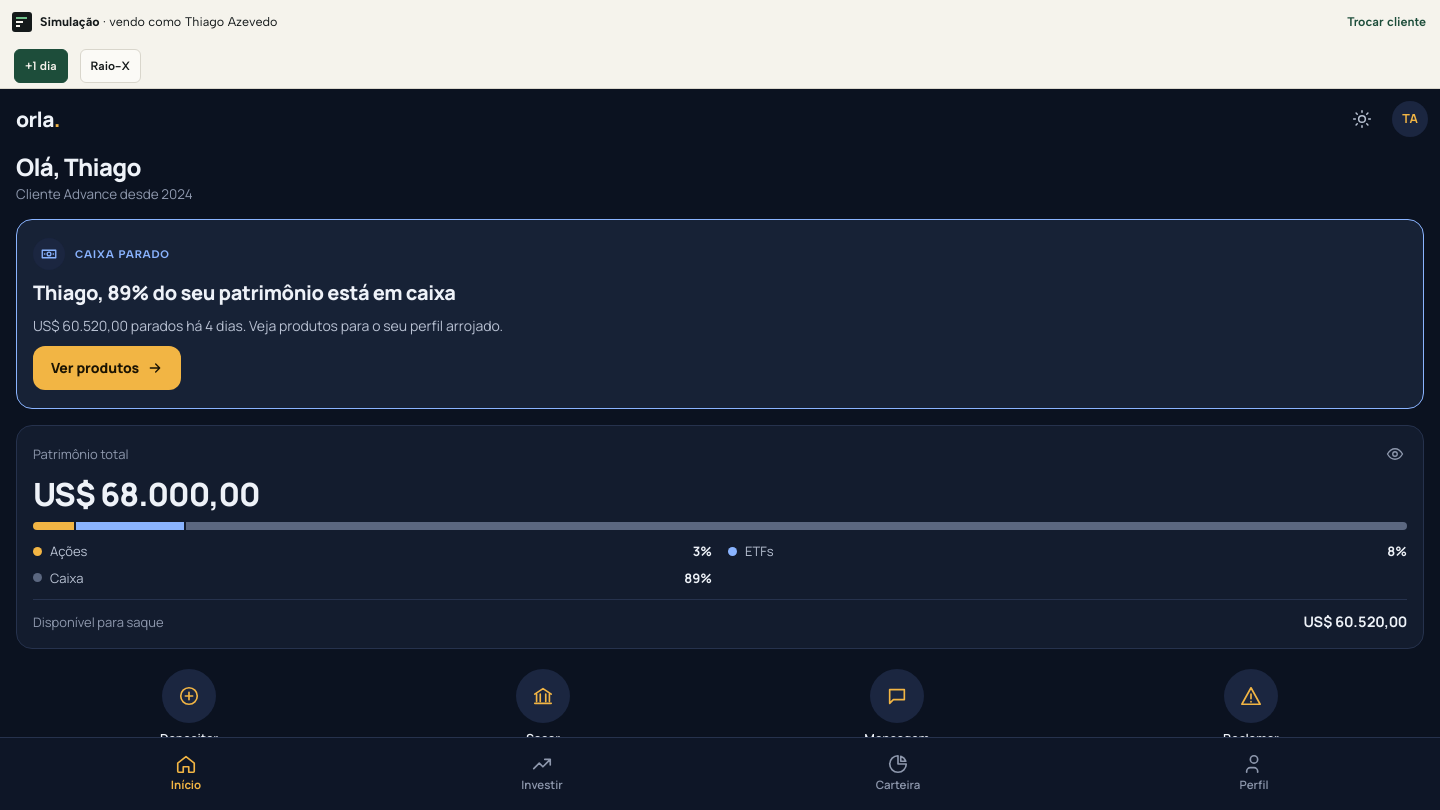
Scenario: client app home from the screen route › routes a navigate action to its screen route
Click the button "Ver produtos". click: click(107, 368)
box: [33,346,181,390]
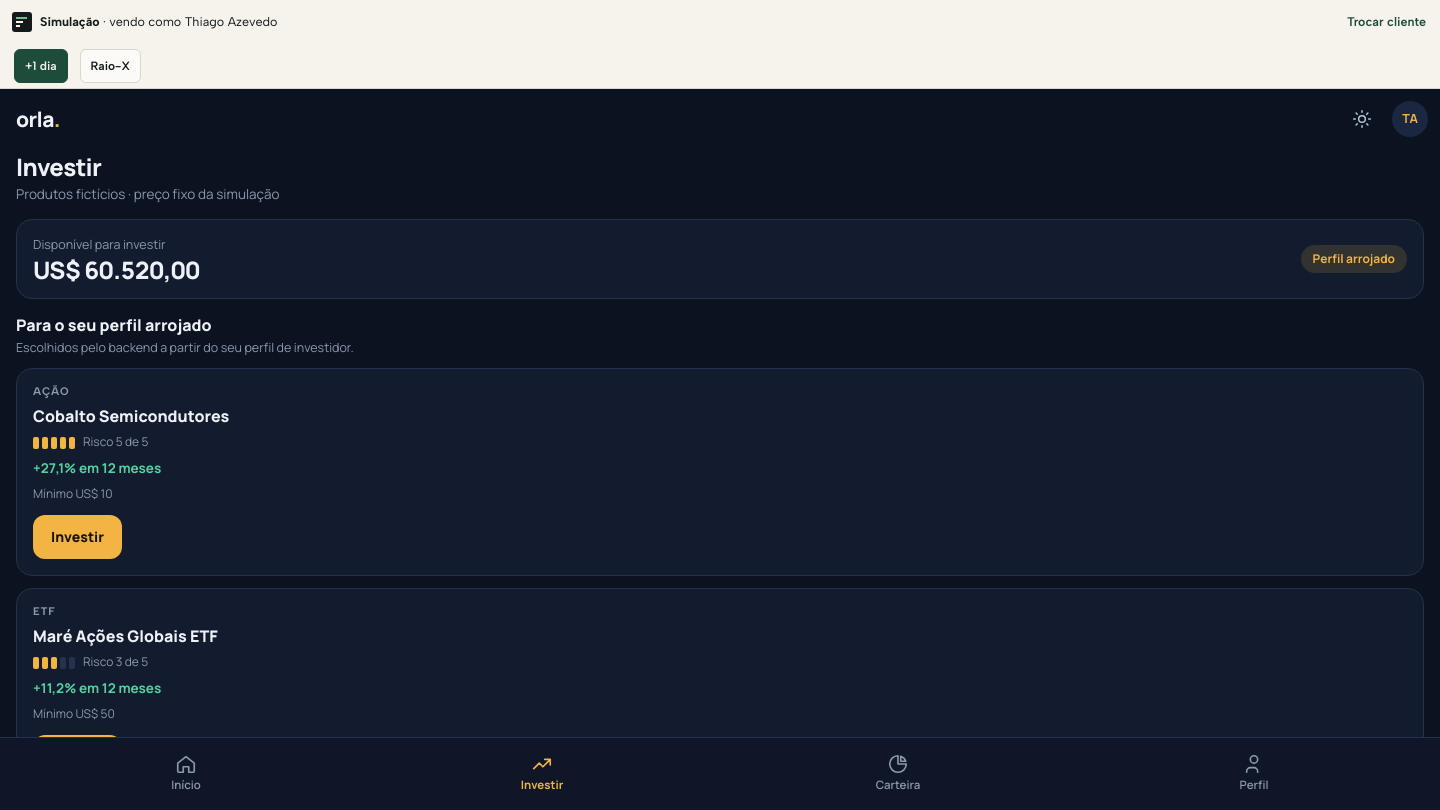
Result: the heading "Investir" is shown at [16,150,101,183]
Click the button "Início". click: click(186, 772)
box: [8,744,364,800]
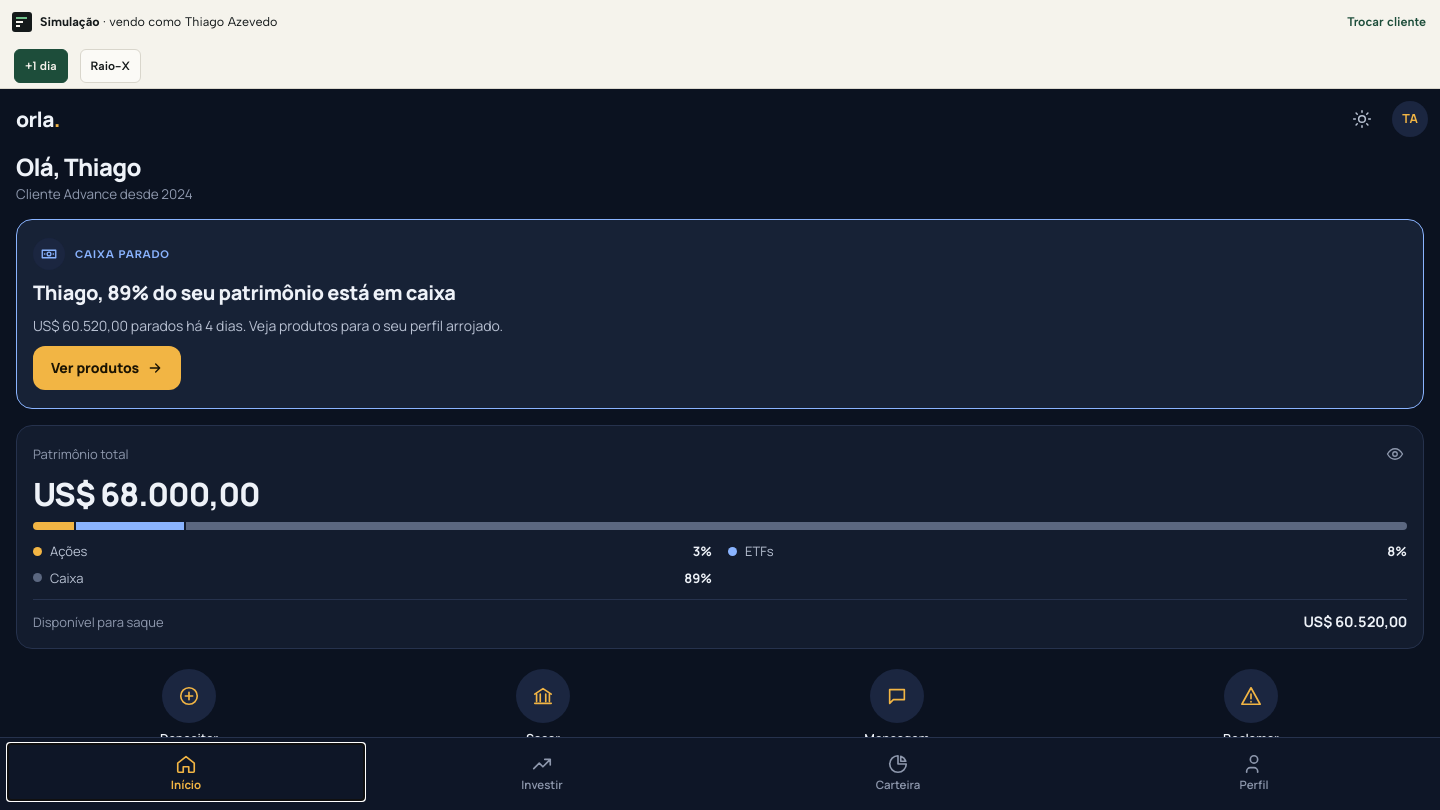
Result: the heading "Olá, Thiago" is shown at [16,150,141,183]
